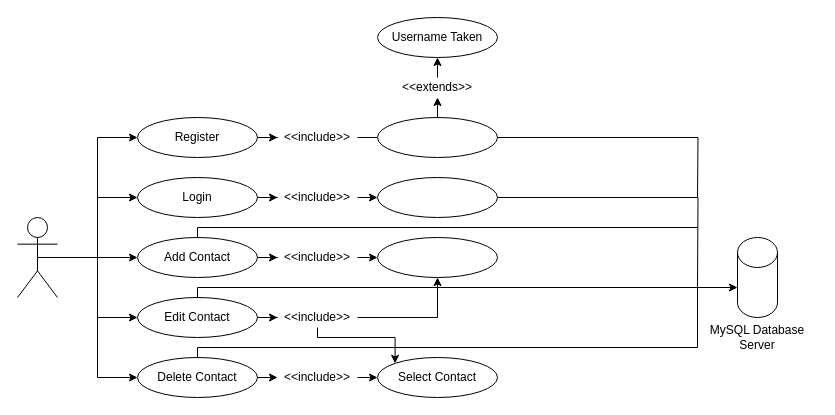
This 835x415 diagram has some shape labels left out. The box of each missing label's shape, as (x1, y1, x2, y2) in pixels:
Actor: (16, 216, 58, 298)
Enter Contact Info: (376, 236, 498, 278)
Enter Password: (376, 176, 498, 218)
Enter User Info: (376, 116, 498, 158)
